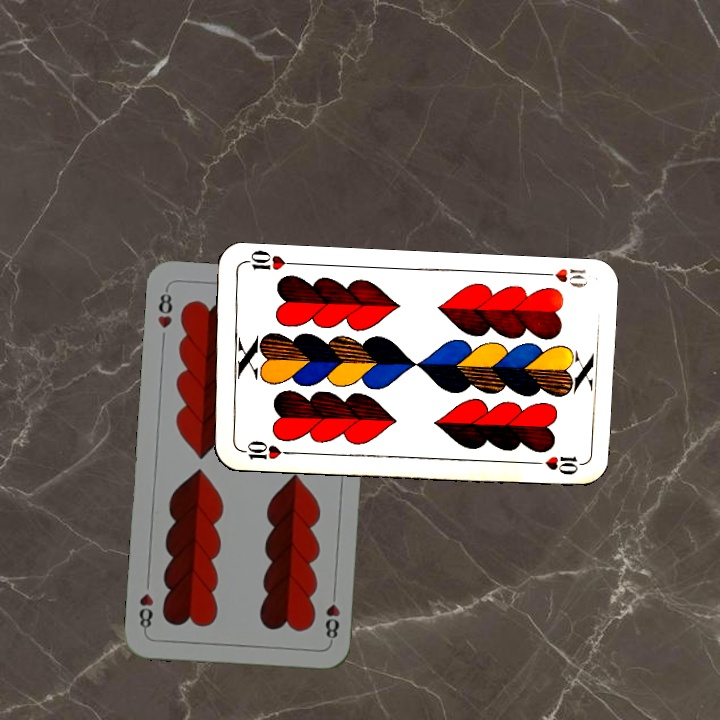H10: (234, 436, 293, 462), (533, 264, 591, 290)
H8: (321, 586, 342, 645), (154, 285, 175, 331)
